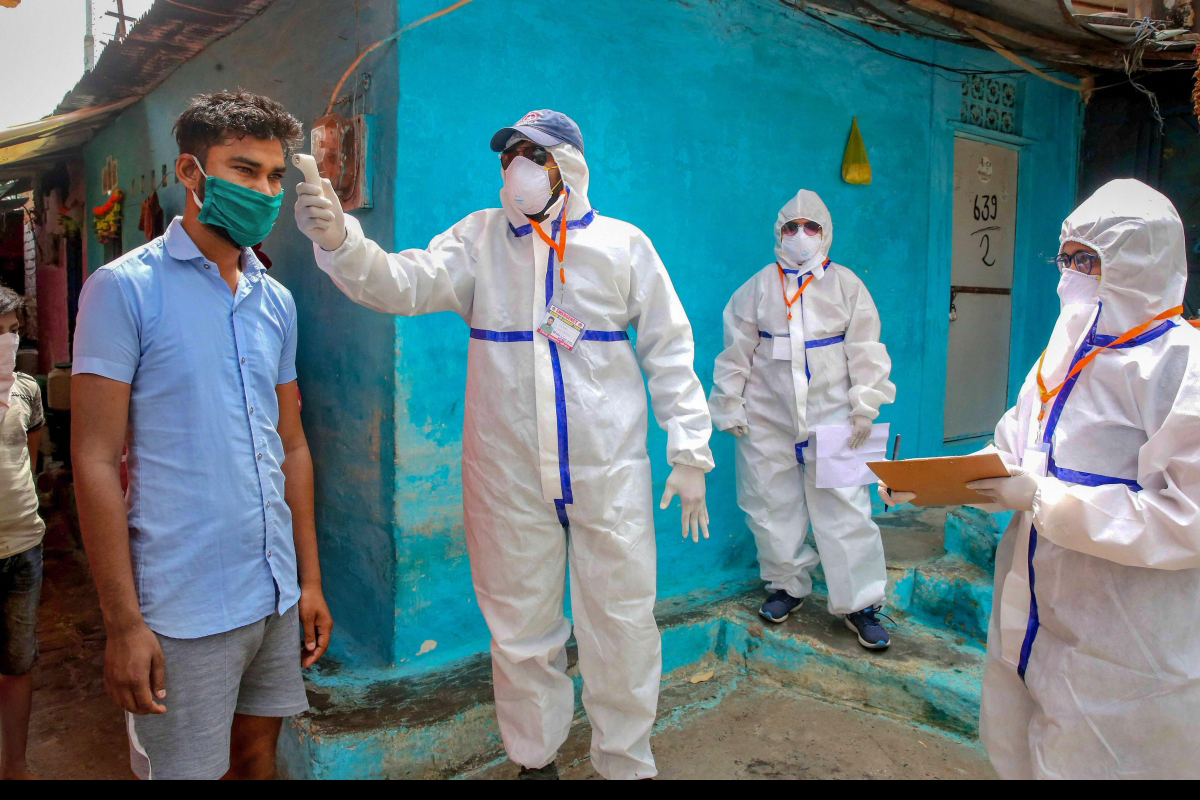Coverall: (362, 100, 699, 778), (985, 176, 1200, 781), (720, 172, 894, 614)
Gloves: (656, 462, 717, 545), (286, 171, 350, 250), (956, 469, 1042, 520), (842, 410, 877, 451)
with_mask: (201, 157, 283, 249), (504, 150, 559, 216), (1053, 252, 1101, 312), (777, 217, 824, 266)
